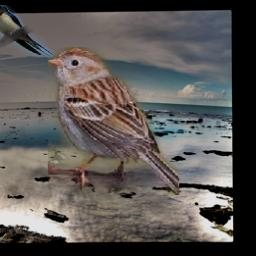Sparrow: (48, 48, 179, 196)
Swallow: (0, 5, 55, 58)
